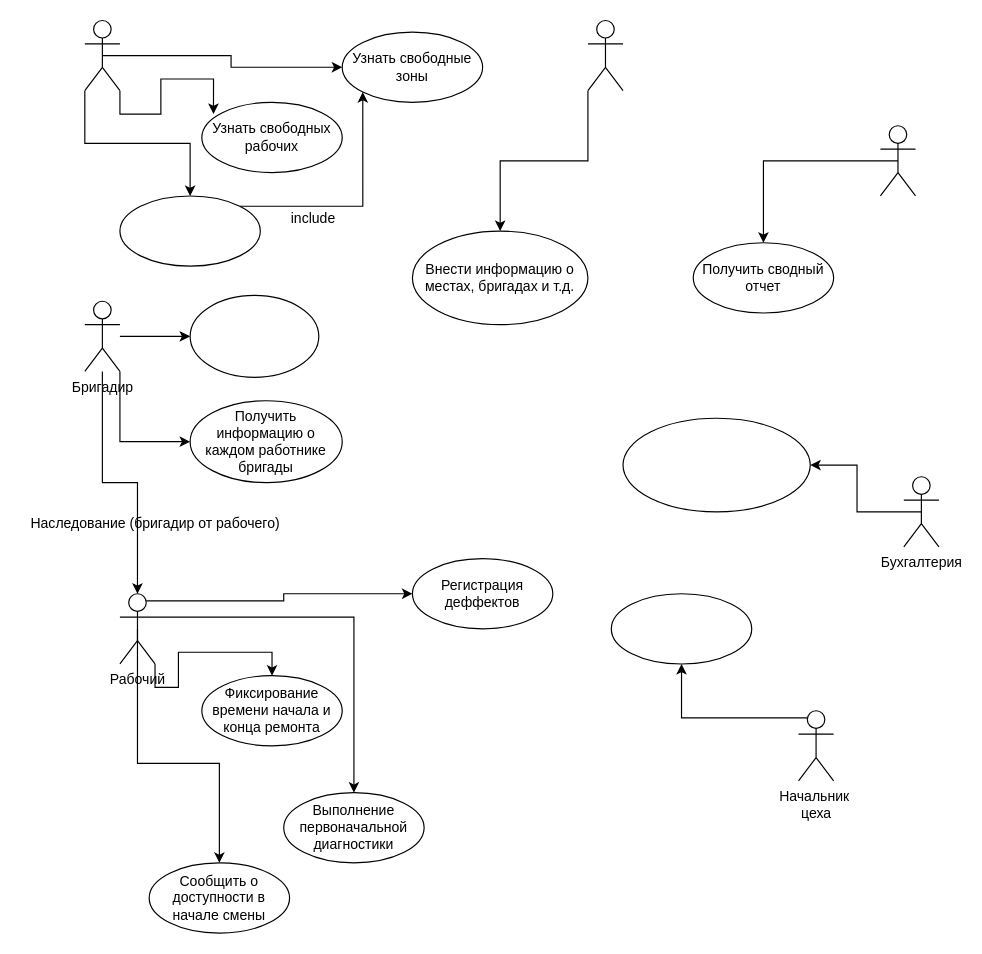
The diagram is 982 pixels wide and 954 high, and some of its shapes have lost their labels. Here are the shapes that lost their labels. From the top down, the box of each, then its label:
(84, 19, 120, 91): Диспетчер
(587, 19, 623, 91): Администратор
(879, 125, 916, 196): Отдел контроля качества
(119, 195, 260, 266): Направить автомобиль на ремонт
(189, 294, 319, 377): Назначить ремонт рабочему
(622, 417, 810, 512): Получить месячный отчет о каждом работнике
(610, 593, 752, 664): Получить отчет о количестве и времени ремонта
